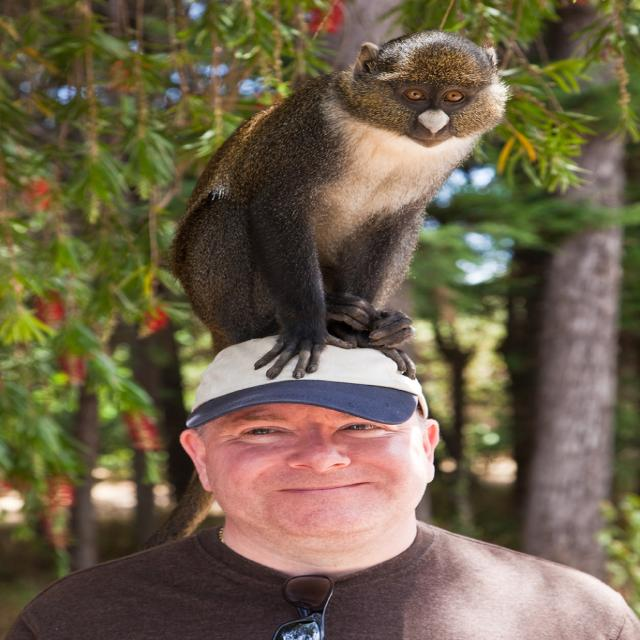Monkey: (167, 29, 511, 377)
